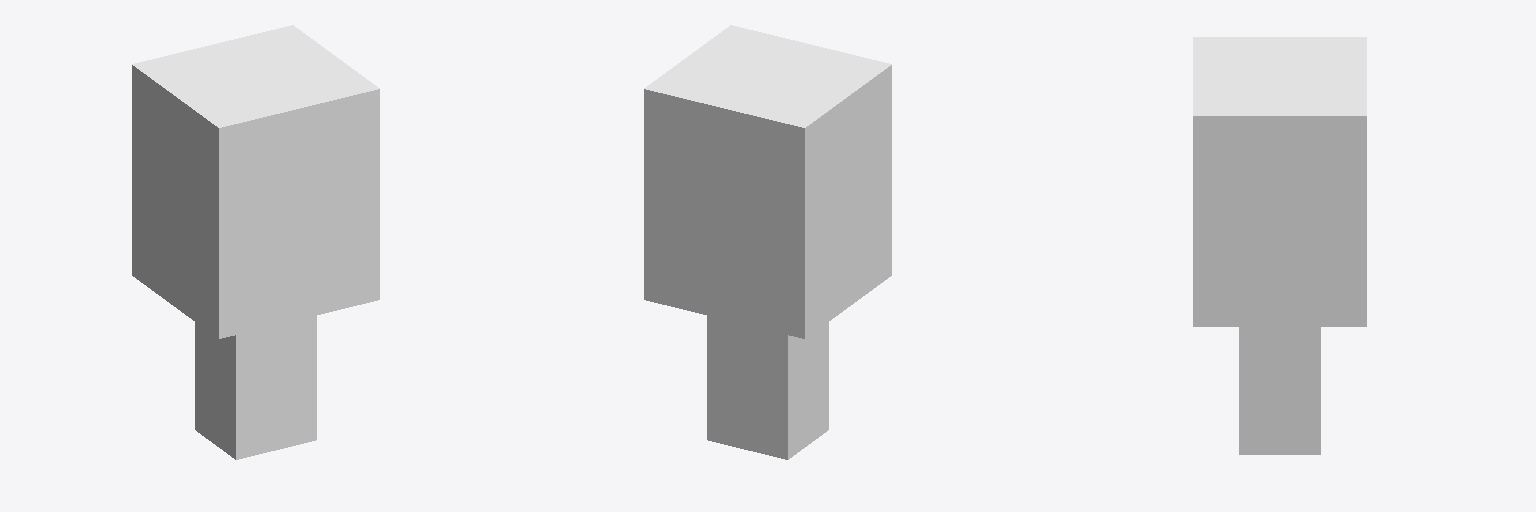
File: treeTall.obj
3 renders of one model, left to right at view 1: azimuth 30°, elevation 25°; view 2: azimuth 150°, elevation 25°; view 3: azimuth 270°, elevation 25°, orthographic.
Visible parts, largest first — view 1: treeTall; view 2: treeTall; view 3: treeTall.
Part boxes in pixels (bbox=[...]): treeTall: bbox=[132, 25, 379, 459]; treeTall: bbox=[644, 25, 891, 459]; treeTall: bbox=[1193, 37, 1366, 454].
Bounding box in the file's own units: 16 × 34 × 15.